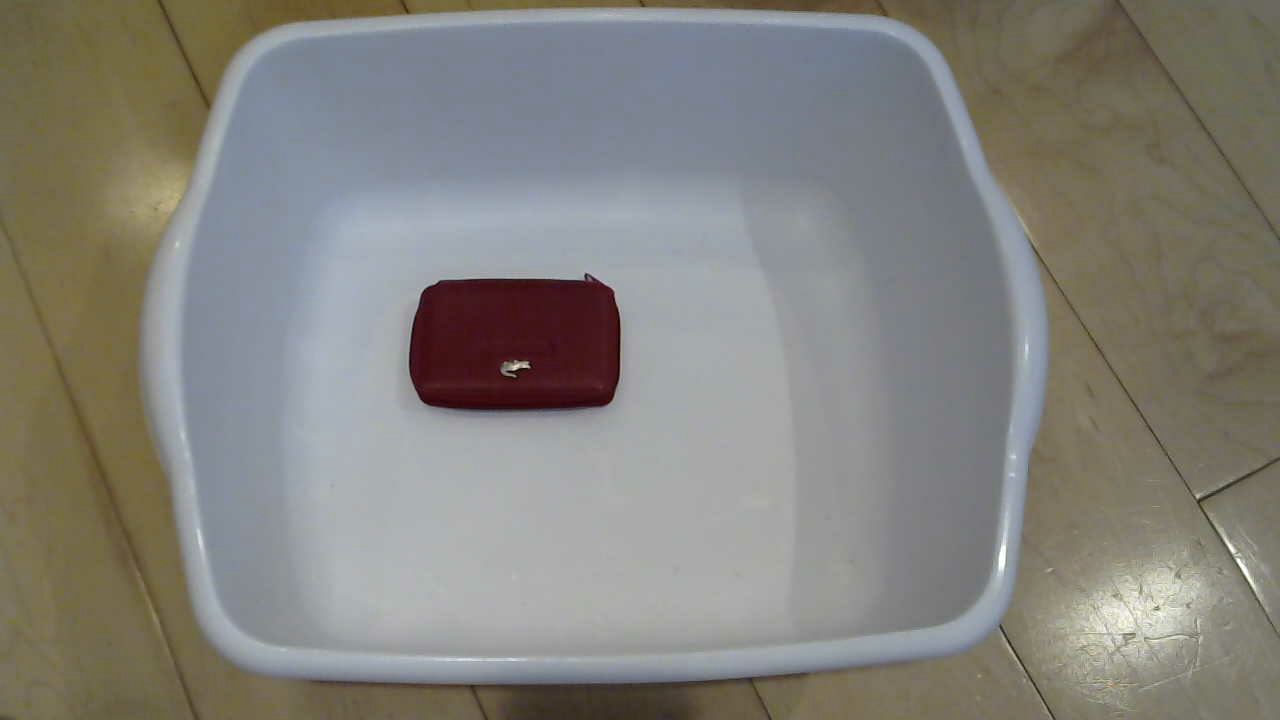wallet: (382, 262, 639, 428)
